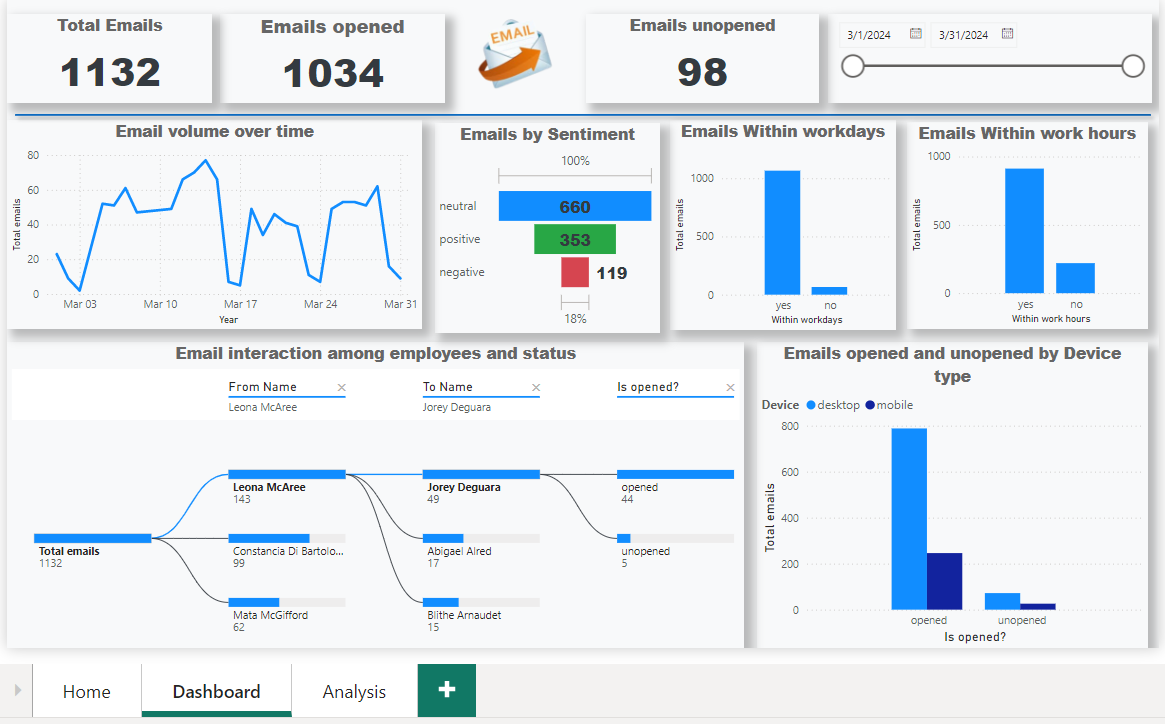

The dashboard page shown, as its layout file describes it:
{"tool":"powerbi","page":{"name":"Dashboard","canvas":[1280,720],"ordinal":1},"visuals":[{"type":"lineChart","title":"Email volume over time","fields":{"Category":["emails- fact table.Date.Variation.Date Hierarchy.Year","emails- fact table.Date.Variation.Date Hierarchy.Quarter","emails- fact table.Date.Variation.Date Hierarchy.Month","emails- fact table.Date.Variation.Date Hierarchy.Day"],"Y":["Measure.Total emails"]},"box":[0,133.6,461.3,232.2],"z":0},{"type":"columnChart","title":" Emails Within workdays","fields":{"Category":["emails- fact table.Within workdays"],"Y":["Measure.Total emails"]},"box":[736.7,132.8,251,233.2],"z":1000},{"type":"columnChart","title":" Emails  Within work hours","fields":{"Category":["emails- fact table.Within work hours"],"Y":["Measure.Total emails"]},"box":[1000.7,134.4,267.2,229.9],"z":2000},{"type":"funnel","title":" Emails by Sentiment","fields":{"Category":["emails- fact table.Sentiment"],"Y":["Measure.Total emails"]},"box":[474.4,136,251,233.2],"z":3000},{"type":"card","title":"Total Emails","fields":{"Values":["Measure.Total emails"]},"box":[0,15.2,228.3,100],"z":4000},{"type":"card","title":"Emails opened","fields":{"Values":["Measure.Opened"]},"box":[237,15.2,250,100],"z":5000},{"type":"card","title":"Emails unopened","fields":{"Values":["Measure.UnOpened"]},"box":[643.5,15.2,258.7,100],"z":6000},{"type":"shape","box":[0,91.3,1280,71.7],"z":7000},{"type":"slicer","fields":{"Values":["emails- fact table.Date"]},"box":[910.9,15.2,360.9,100],"z":8000},{"type":"image","box":[493.5,0,150,128.3],"z":9000},{"type":"clusteredColumnChart","title":" Emails opened and unopened by Device type","fields":{"Category":["emails- fact table.Is opened?"],"Series":["emails- fact table.Device"],"Y":["Measure.Total emails"]},"box":[833.5,380.2,434.2,340.4],"z":10000},{"type":"decompositionTreeVisual","title":"Email interaction among employees and status","fields":{"ExplainBy":["emails- fact table.From Name","emails- fact table.To Name","emails- fact table.Is opened?","emails- fact table.Within workdays"],"Analyze":["Measure.Total emails"]},"box":[0,380.2,819.2,340.4],"z":11000}]}

Visuals, with their boxes on the page's 1280x720 design canvas (x1, y1, x2, y2). These are canvas units, not pixel positions in the 1165x724 screenshot, which may show the page scaled, cropped or inside an application window:
"Email volume over time" lineChart: (0,134,461,366)
" Emails Within workdays" columnChart: (737,133,988,366)
" Emails  Within work hours" columnChart: (1001,134,1268,364)
" Emails by Sentiment" funnel: (474,136,725,369)
"Total Emails" card: (0,15,228,115)
"Emails opened" card: (237,15,487,115)
"Emails unopened" card: (644,15,902,115)
shape: (0,91,1280,163)
slicer - emails- fact table.Date: (911,15,1272,115)
image: (494,0,644,128)
" Emails opened and unopened by Device type" clusteredColumnChart: (834,380,1268,721)
"Email interaction among employees and status" decompositionTreeVisual: (0,380,819,721)
